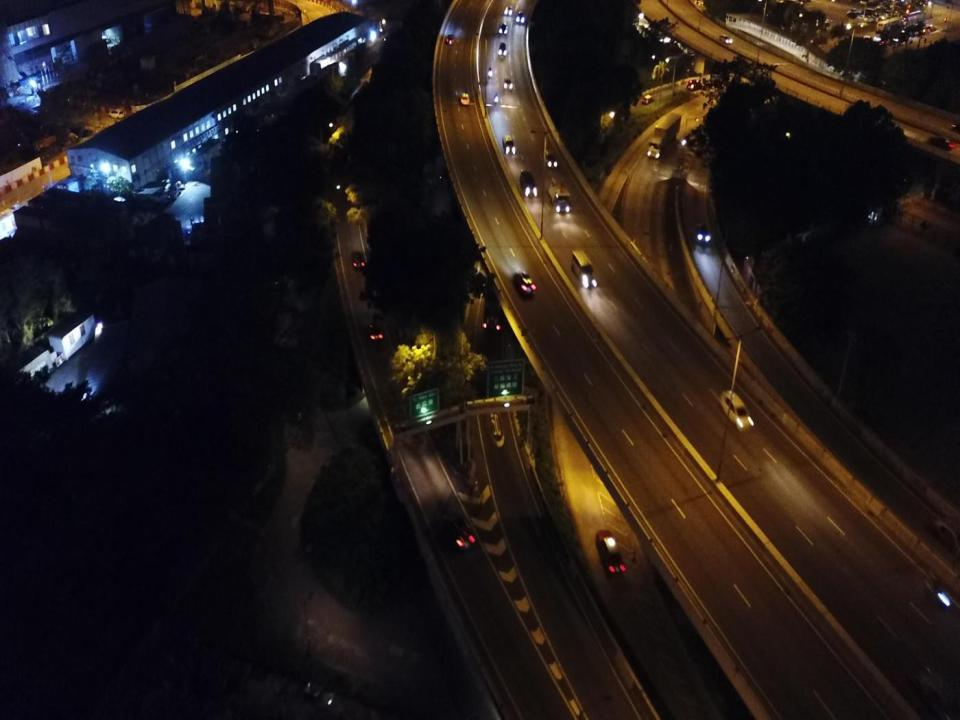bus: (483, 266, 509, 330), (876, 18, 900, 32), (908, 10, 926, 21)
car: (720, 391, 754, 432), (596, 530, 626, 576), (442, 513, 475, 549), (513, 272, 535, 298), (928, 136, 952, 149), (366, 323, 382, 341), (352, 250, 365, 270), (502, 136, 515, 154), (696, 224, 709, 242), (544, 150, 557, 167), (686, 80, 702, 90), (108, 109, 124, 119), (460, 92, 470, 106), (642, 94, 653, 105), (503, 76, 512, 88), (720, 35, 732, 44), (516, 10, 524, 23), (500, 22, 508, 34), (504, 6, 513, 16), (447, 34, 454, 44)
truck: (647, 111, 681, 159), (549, 178, 571, 212)
van: (571, 250, 595, 288), (520, 170, 536, 196), (498, 41, 506, 56)
